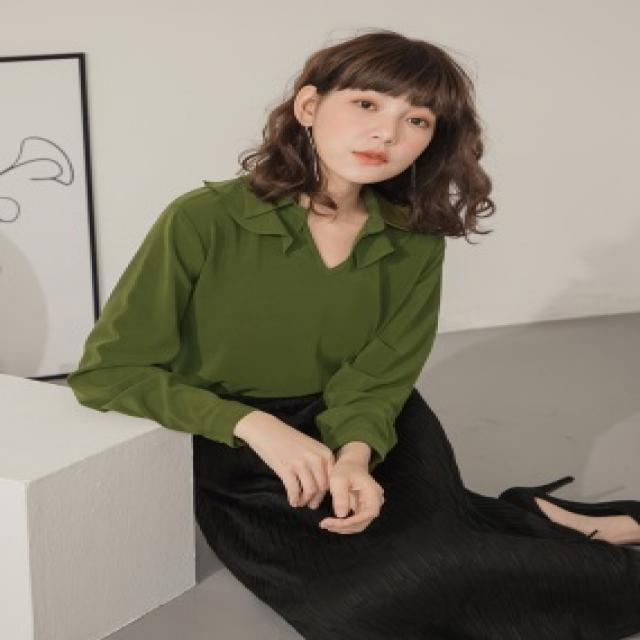plain: (71, 172, 452, 446)
